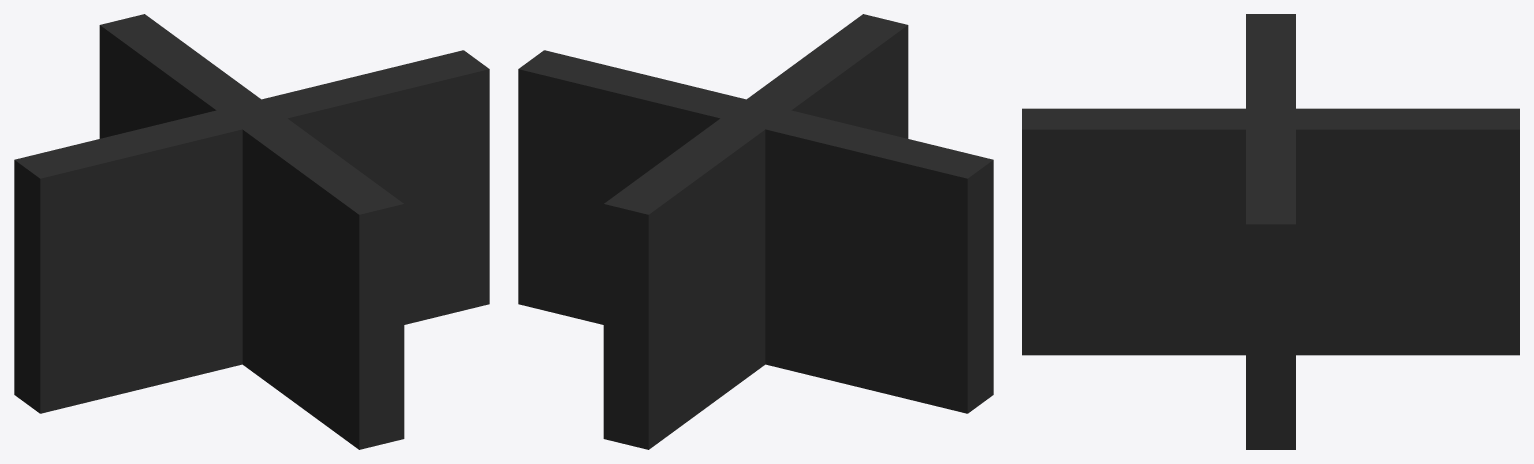
The model's file is UpperWall_Cross.fbx.
3 views of the same model, side by side, from view 1: azimuth 30°, elevation 25°; view 2: azimuth 150°, elevation 25°; view 3: azimuth 270°, elevation 25° (orthographic). The views are drawn at different scales.
Visible parts, largest first — view 1: UpperWall_Curved.006; view 2: UpperWall_Curved.006; view 3: UpperWall_Curved.006.
Part boxes in pixels (x1,y1,x2,y2): UpperWall_Curved.006: [14, 14, 489, 449]; UpperWall_Curved.006: [518, 14, 993, 449]; UpperWall_Curved.006: [1022, 14, 1519, 449].
Size of the model in its own units: 200 by 100 by 200.
